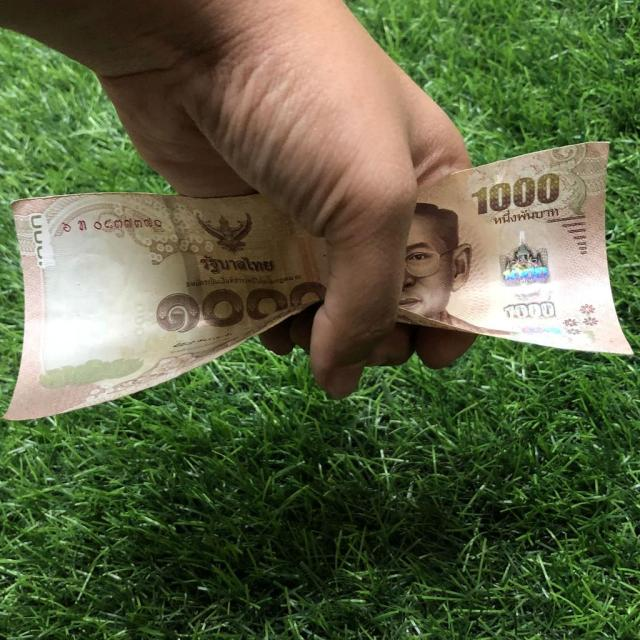THAI1000: (5, 193, 329, 420), (396, 142, 632, 354)
